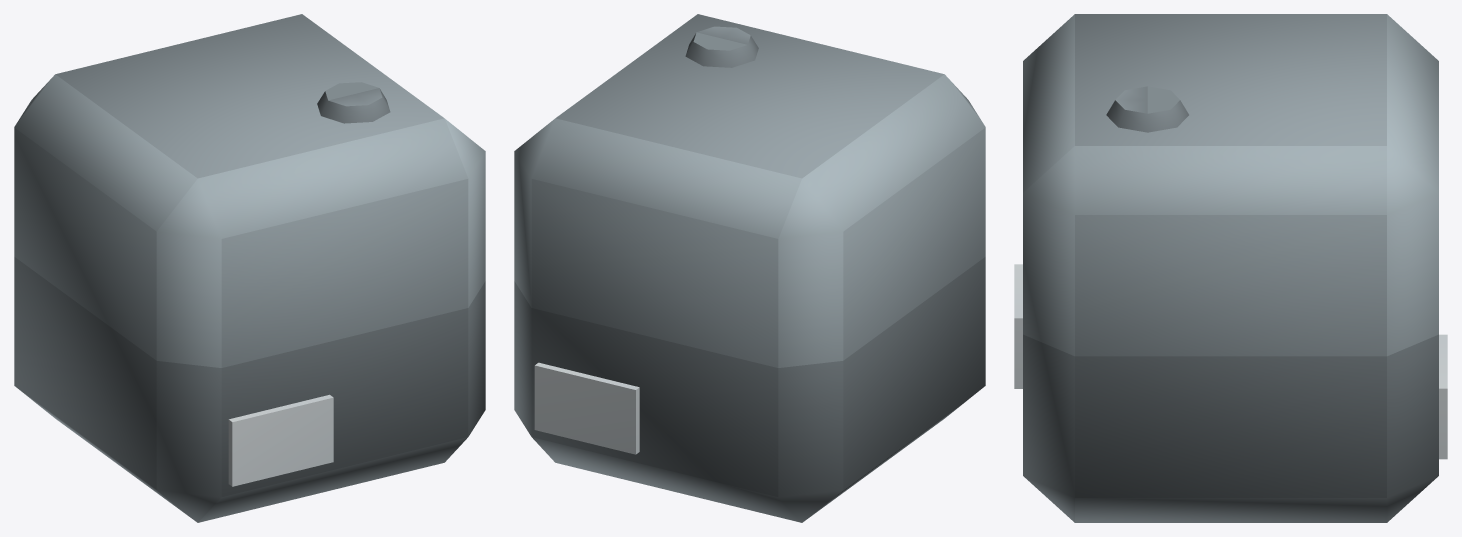
File: cargo_B.obj
3 renders of one model, left to right at view 1: azimuth 30°, elevation 25°; view 2: azimuth 150°, elevation 25°; view 3: azimuth 270°, elevation 25°, orthographic. The views are drawn at different scales.
Bounding box in the file's own units: 0.5 × 0.52 × 0.5205.
Materials: 1 (1 with a texture image).
